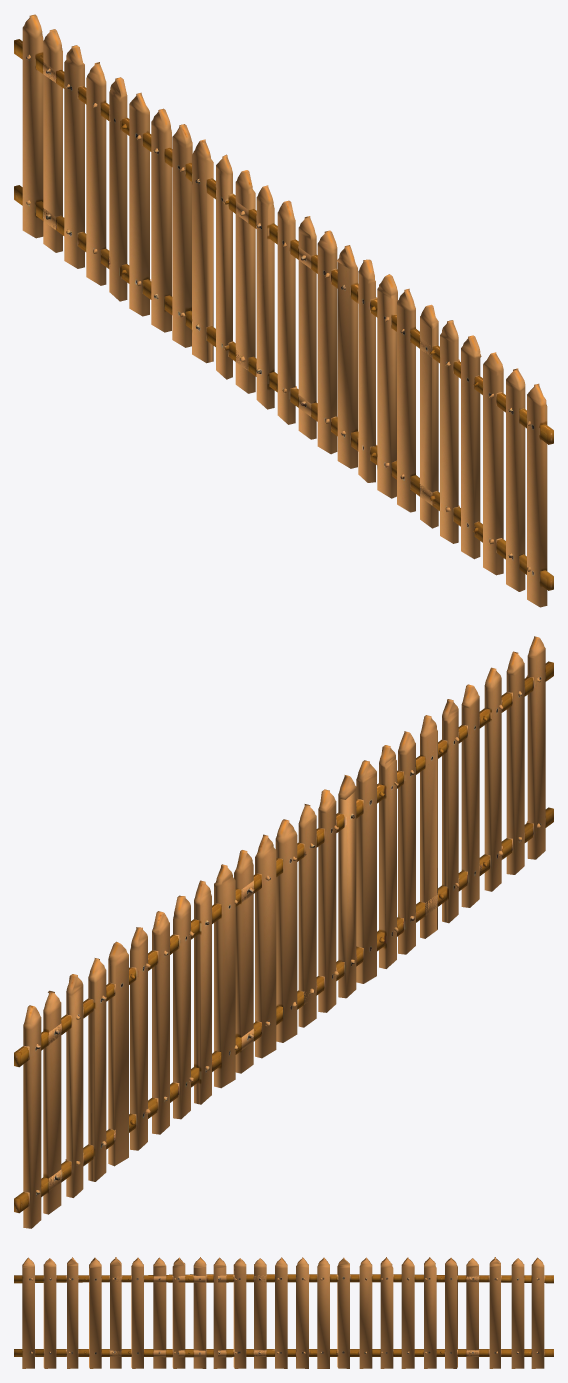
Rendered from tripo_convert_4bbe56e9-d6be-4f38-b8aa-53c2639444e3.fbx.
3 renders of one model, top to bottom at view 1: azimuth 30°, elevation 25°; view 2: azimuth 150°, elevation 25°; view 3: azimuth 270°, elevation 25°, orthographic. The views are drawn at different scales.
Parts seen in each view (by area): view 1: tripo_node_4bbe56e9; view 2: tripo_node_4bbe56e9; view 3: tripo_node_4bbe56e9.
Boxes of the visible parts, left/top/right/bottom form: tripo_node_4bbe56e9: left=14, top=14, right=553, bottom=607; tripo_node_4bbe56e9: left=14, top=636, right=553, bottom=1228; tripo_node_4bbe56e9: left=14, top=1257, right=553, bottom=1368.
Bounding box in the file's own units: 0.0137 × 0.2246 × 0.998.
Materials: 1 (1 with a texture image).
